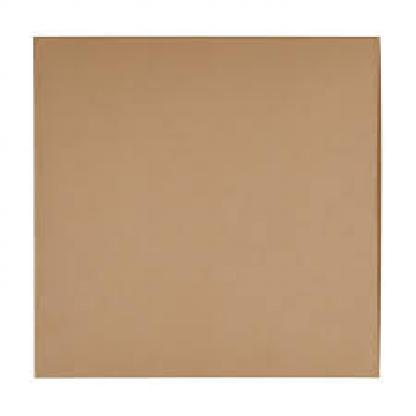CARDBOARD: (31, 33, 379, 377)
